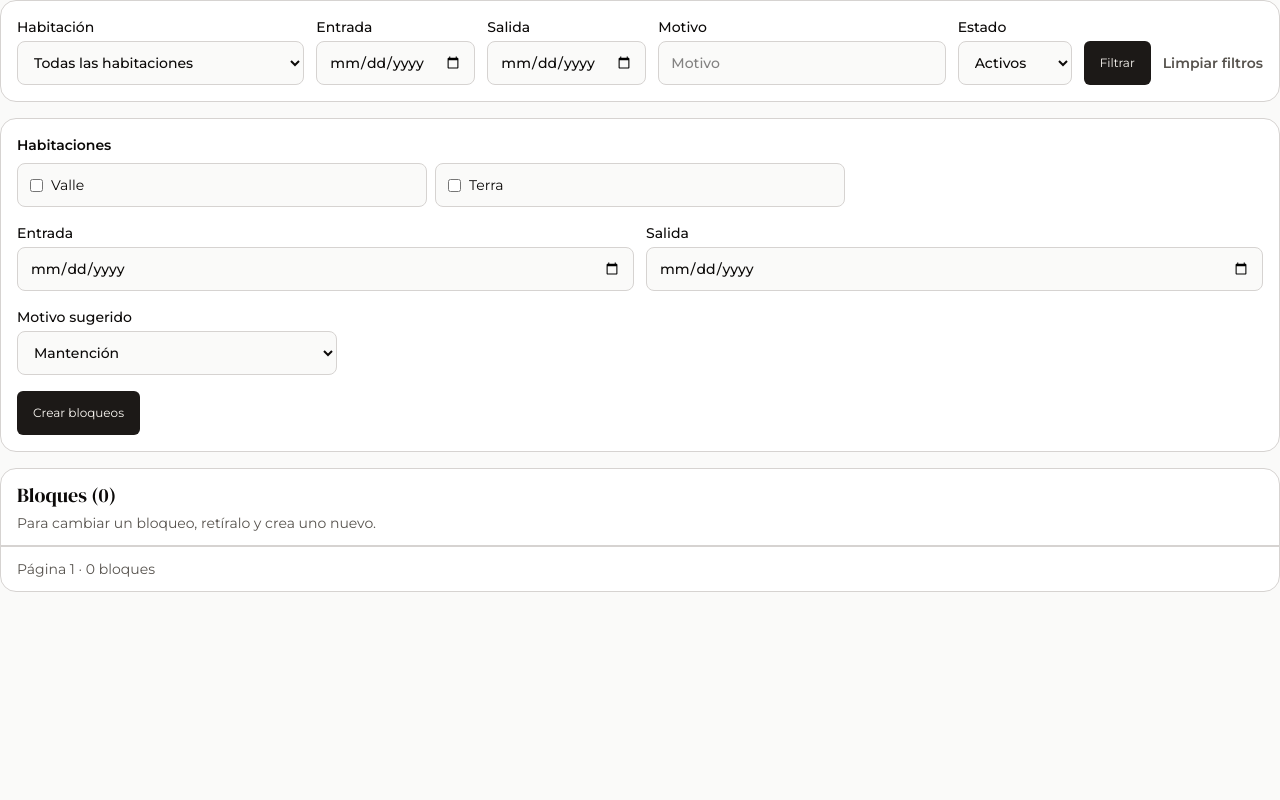
manual block form › sends a custom reason and restores the button after rejection
Select "Otro" in the dropdown labelled "Motivo sugerido": (177, 353) top-left (17, 331), bottom-right (337, 375)
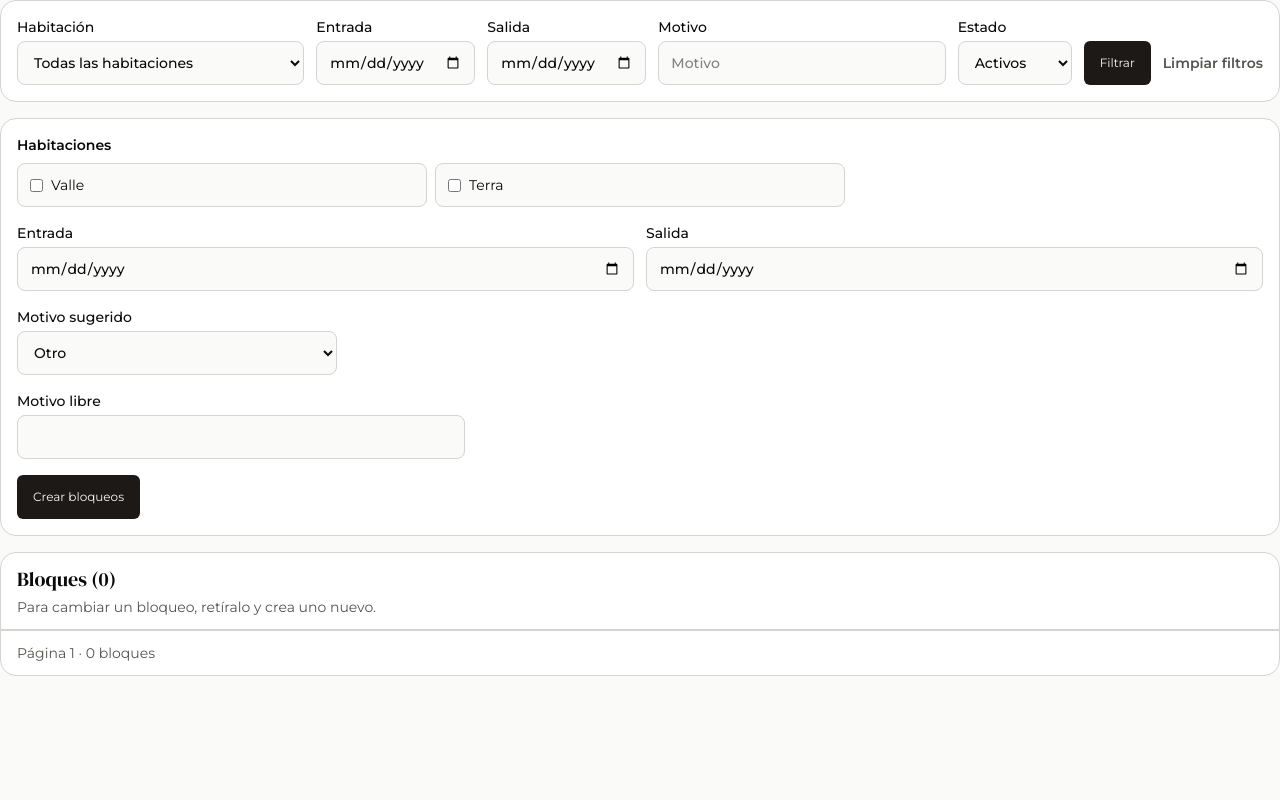
In the field labelled "Motivo libre": (241, 437) top-left (17, 415), bottom-right (465, 459), type "Pintura"
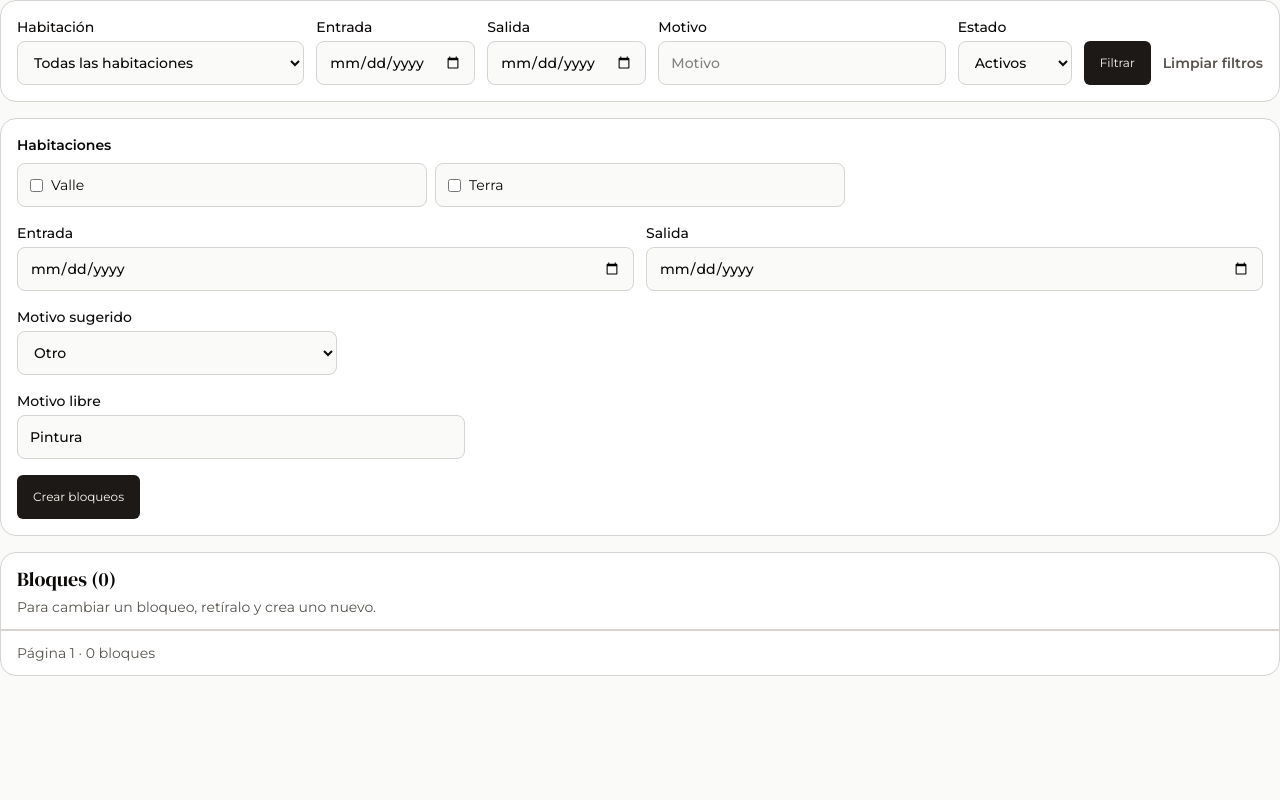
Submit the form named "Crear bloqueos", box top-left (0, 118), bottom-right (1279, 536)
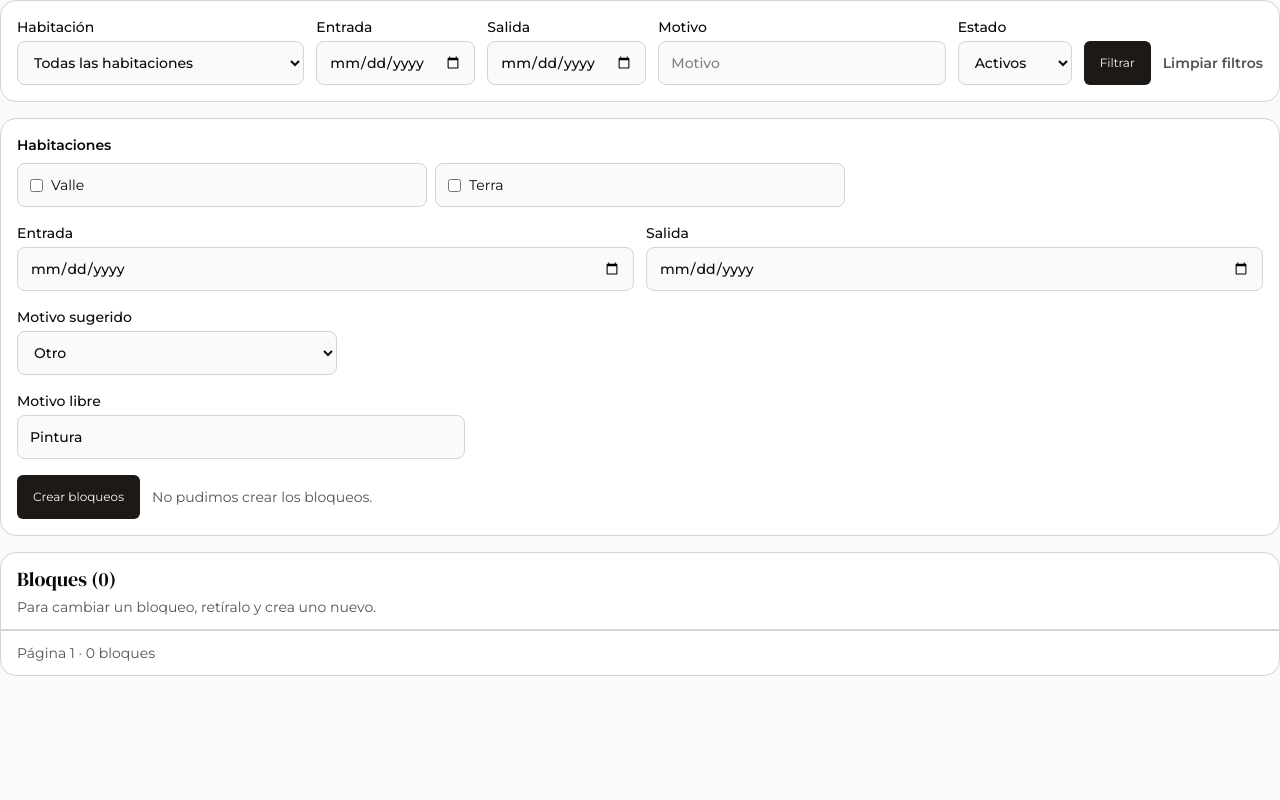
Expected: the button "Crear bloqueos" is enabled, top-left (17, 475), bottom-right (140, 519)
Now the message shows "No pudimos crear", box top-left (152, 488), bottom-right (372, 506)
